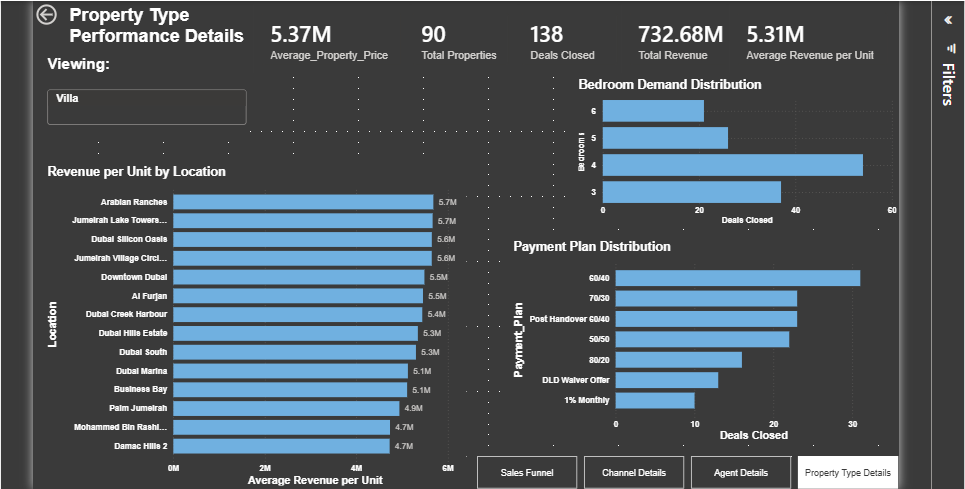

The dashboard page shown, as its layout file describes it:
{"tool":"powerbi","page":{"name":"Property Type Details","canvas":[1280,720],"ordinal":3},"visuals":[{"type":"actionButton","box":[0,0,100,40],"z":0},{"type":"cardVisual","fields":{"Data":["All_Sales.Deals Closed"]},"box":[512,0,272,128],"z":1000},{"type":"cardVisual","fields":{"Data":["All_Sales.Total Revenue"]},"box":[784,0,256,128],"z":2000},{"type":"cardVisual","fields":{"Data":["silver properties.Average Revenue per Unit"]},"box":[1024,0,256,128],"z":3000},{"type":"barChart","title":"Revenue per Unit by Location","fields":{"Category":["silver properties.Location"],"Y":["silver properties.Average Revenue per Unit"]},"box":[16,112,624,608],"z":4000},{"type":"barChart","title":"Payment Plan Distribution","fields":{"Category":["silver properties.Payment_Plan"],"Y":["All_Sales.Deals Closed"]},"box":[704,352,576,304],"z":5000},{"type":"barChart","title":"Bedroom Demand Distribution","fields":{"Category":["silver properties.Bedrooms"],"Y":["All_Sales.Deals Closed"]},"box":[656,112,624,224],"z":6000},{"type":"pageNavigator","box":[656,672,624,48],"z":7000},{"type":"textbox","box":[48,0,464,112],"z":8000}]}

Visuals, with their boxes on the page's 1280x720 design canvas (x1, y1, x2, y2). These are canvas units, not pixel positions in the 965x489 screenshot, which may show the page scaled, cropped or inside an application window:
actionButton: 0:0:100:40
cardVisual - All_Sales.Deals Closed: 512:0:784:128
cardVisual - All_Sales.Total Revenue: 784:0:1040:128
cardVisual - silver properties.Average Revenue per Unit: 1024:0:1280:128
"Revenue per Unit by Location" barChart: 16:112:640:720
"Payment Plan Distribution" barChart: 704:352:1280:656
"Bedroom Demand Distribution" barChart: 656:112:1280:336
pageNavigator: 656:672:1280:720
textbox: 48:0:512:112
